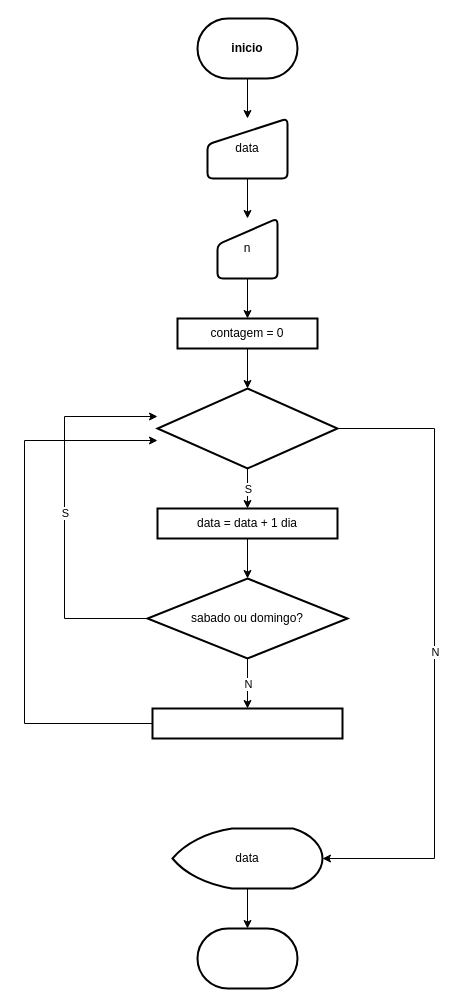
Some shapes in this 460 by 1006 pixel diagram are drawn without their labels. The centre of each missing label's shape, as x and y in pixels:
"contagem < n?" goes at point 247,428.
"contagem = contagem + 1" goes at point 247,723.
"fim" goes at point 247,958.
